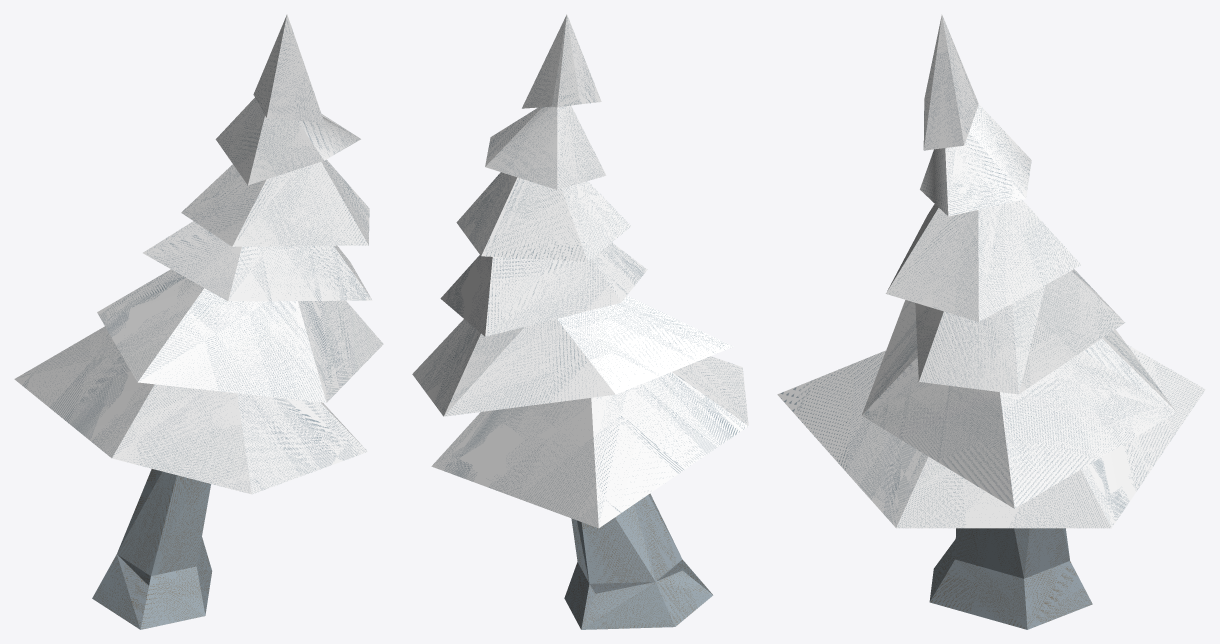
Rendered from Tree_Pine_Snow_Tall_03.fbx.
3 views of the same model, side by side, from view 1: azimuth 30°, elevation 25°; view 2: azimuth 150°, elevation 25°; view 3: azimuth 270°, elevation 25° (orthographic). The views are drawn at different scales.
Visible parts, largest first — view 1: Model; view 2: Model; view 3: Model.
Part boxes in pixels (x1,y1,x2,y2): Model: [14, 14, 383, 629]; Model: [412, 14, 748, 629]; Model: [777, 15, 1205, 629].
Bounding box in the file's own units: 882 × 1553 × 950.
